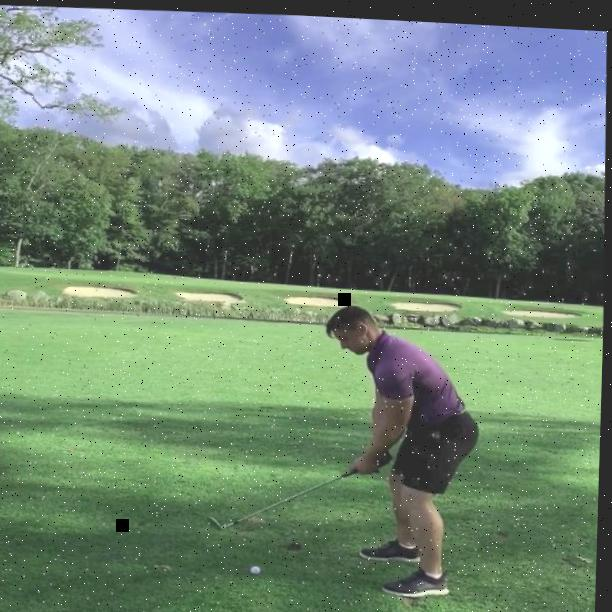ClubHead: (211, 514, 226, 528)
GolfBall: (252, 562, 265, 572)
